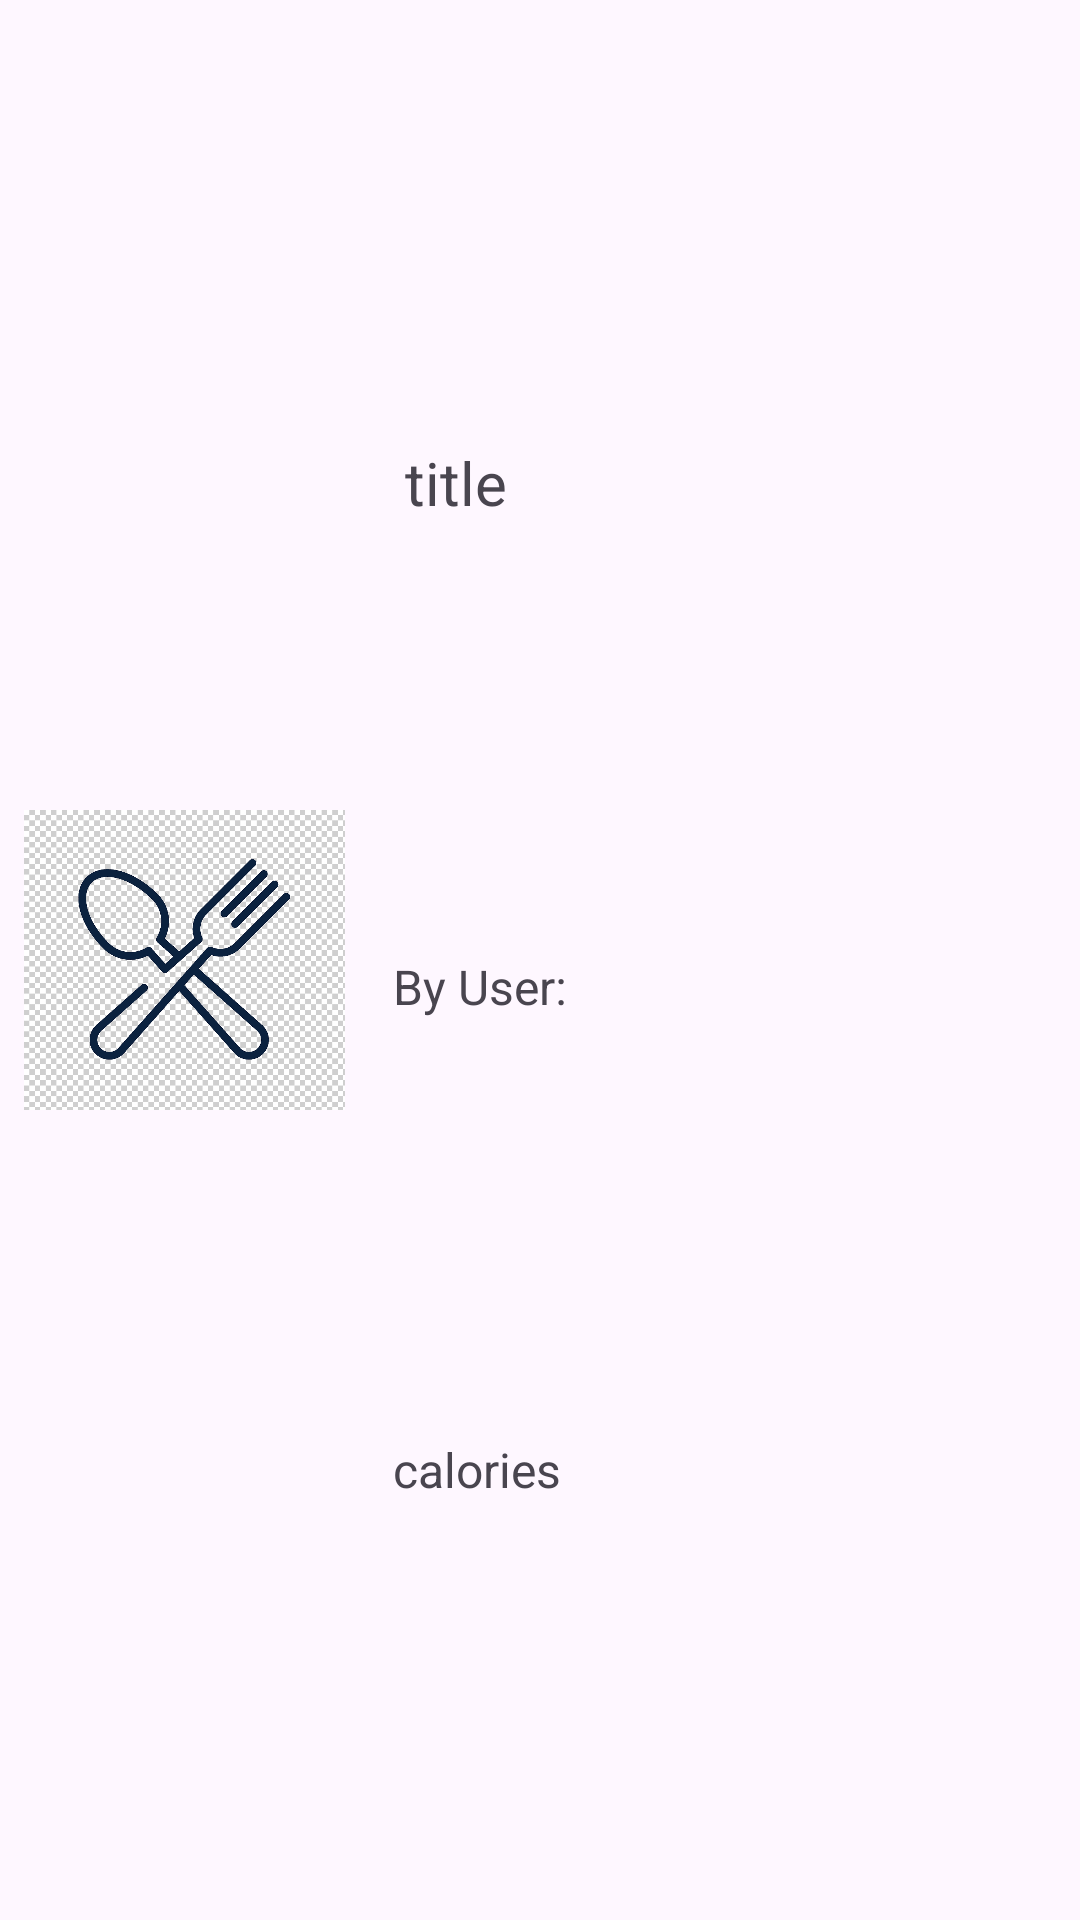

Icons on this 1080x1920 Android screen, each with its box as {"left": x1, "top": y1, "right": x2, "bottom": y2}:
meal: {"left": 24, "top": 810, "right": 345, "bottom": 1110}
